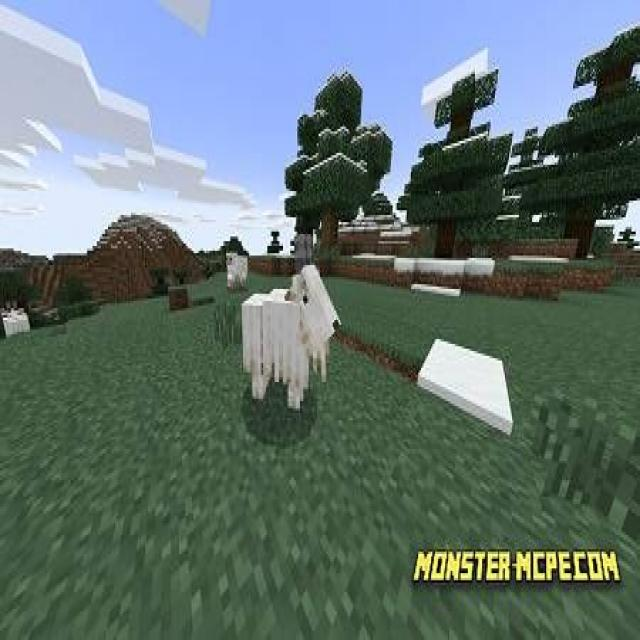Goat: (239, 254, 343, 431)
